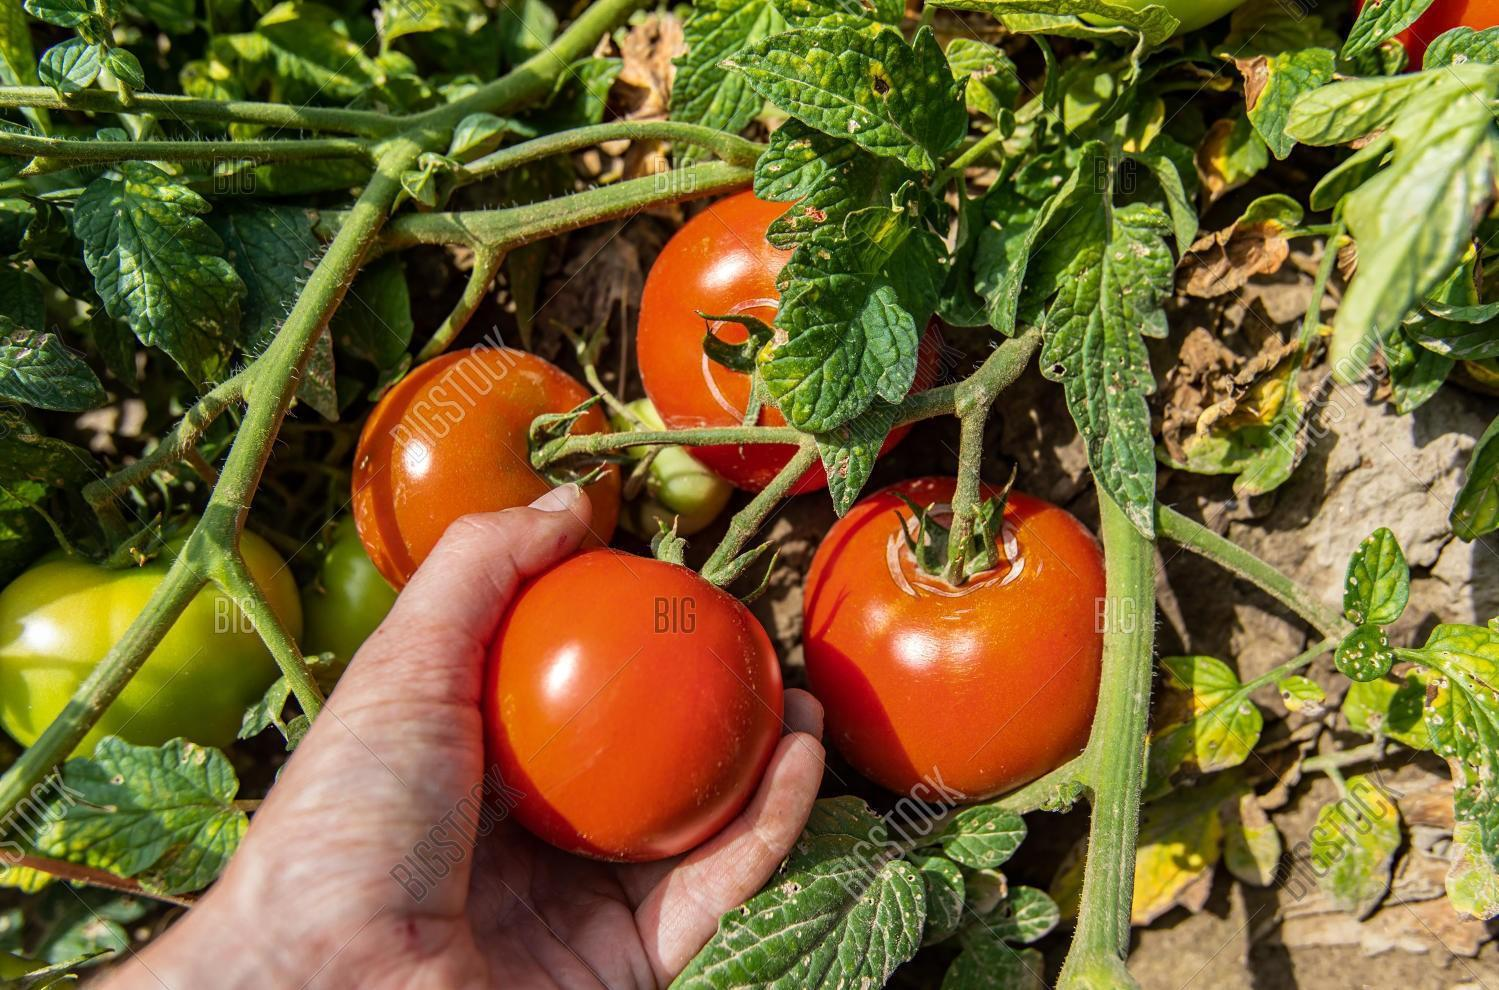healthy-tomato: (654, 171, 997, 534), (812, 418, 1110, 810), (493, 510, 787, 868), (353, 348, 641, 590)
